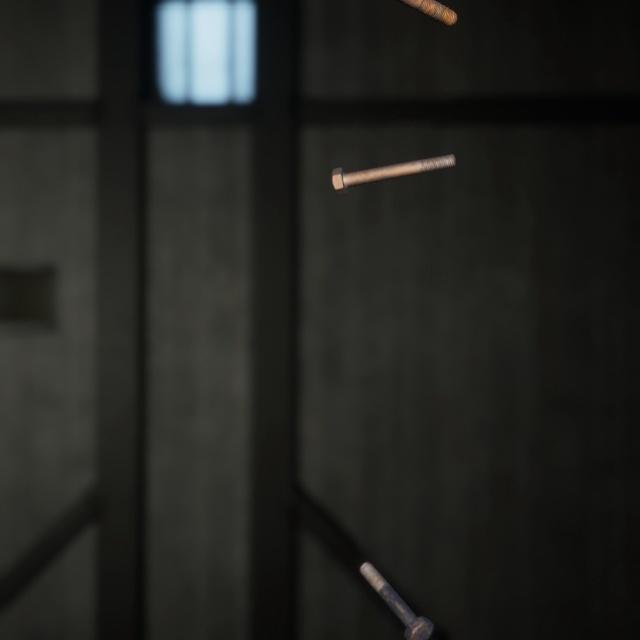bolt: (355, 535, 438, 626), (327, 136, 460, 187), (401, 0, 461, 25)
